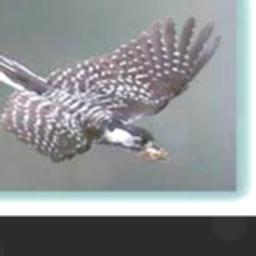Woodpecker: (0, 9, 233, 168)
